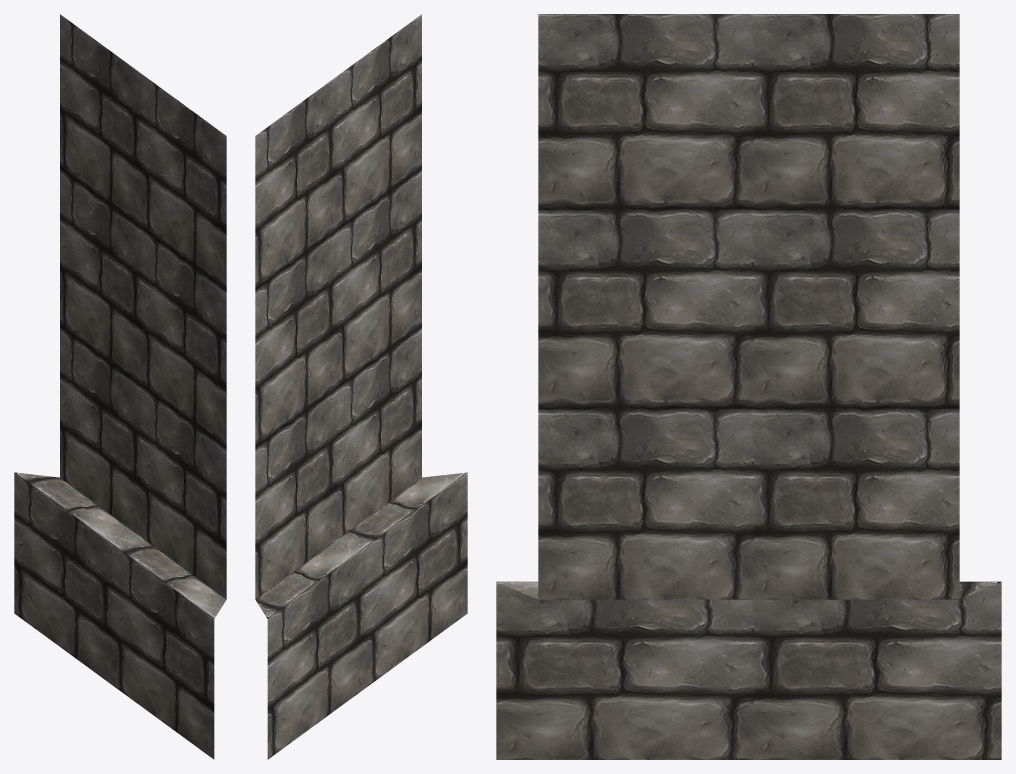
Rendered from Castle Wall Middle Cornered.FBX.
The picture shows the model from 3 angles, left to right: view 1: azimuth 30°, elevation 25°; view 2: azimuth 150°, elevation 25°; view 3: azimuth 270°, elevation 25°; orthographic projection. The views are drawn at different scales.
Parts seen in each view (by area): view 1: Plane003; view 2: Plane003; view 3: Plane003.
Boxes of the visible parts, x1,y1,x2,y2 form: Plane003: [14, 14, 226, 759]; Plane003: [255, 14, 467, 759]; Plane003: [496, 14, 1001, 759].
Size of the model in its own units: 0.254 by 5.08 by 3.05.
1 material, 1 textured.
